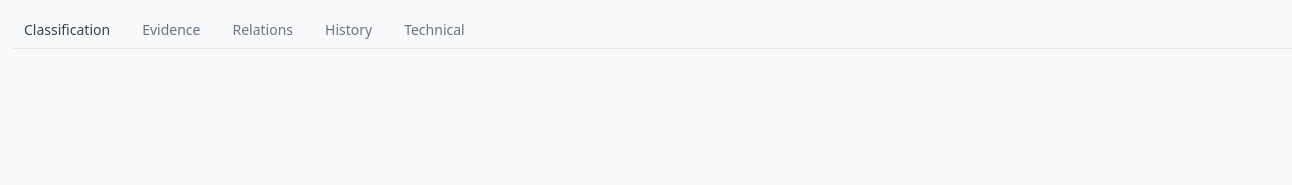
Test: AccountSubviewTabs (classification タブの取得) › fetch が返す ISO 文字列の lastChangedAt を Date として扱い、例外なく描画する
Click the tab "Classification" at [67, 30], box x1=12 y1=12 x2=122 y2=48
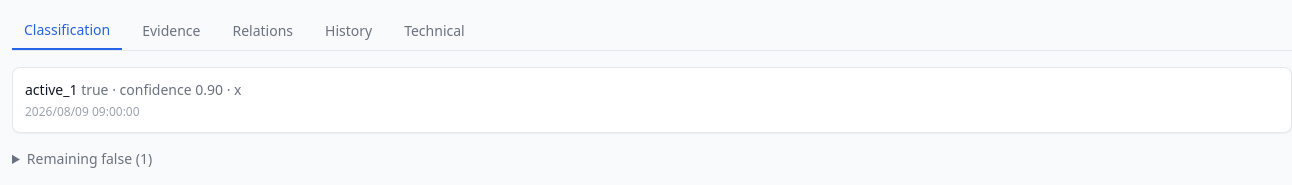
Result: the text "active_1" is shown at x1=25 y1=80 x2=78 y2=99
